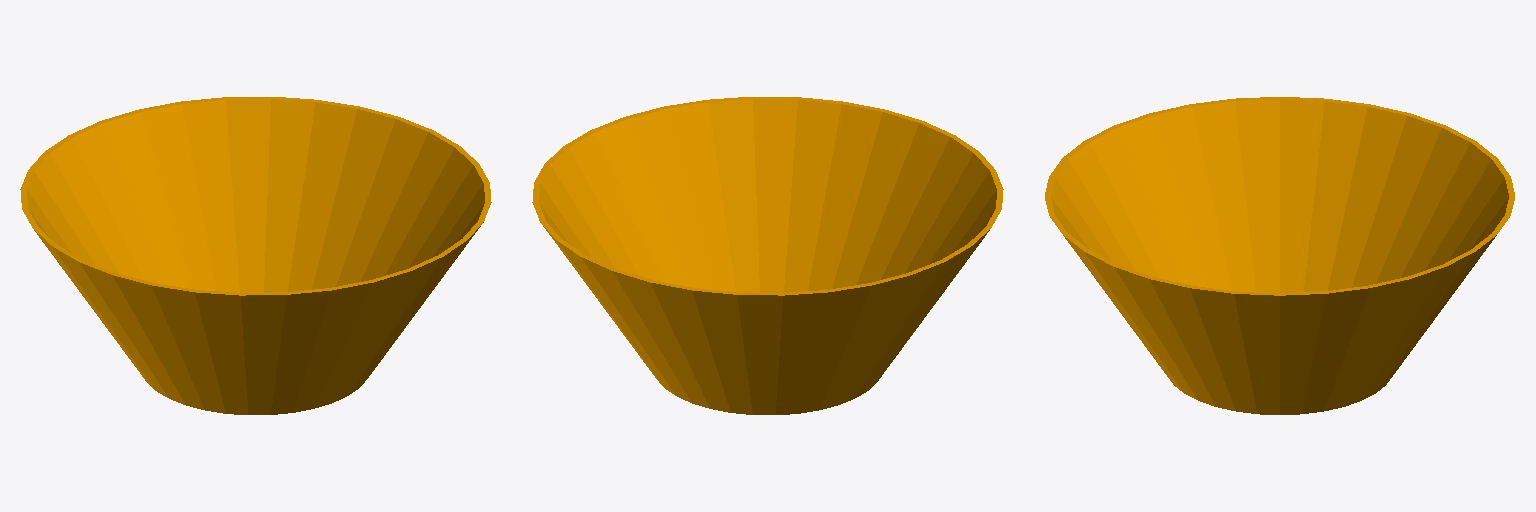
The robot description file, URDF, robot "bowl_large_model":
<robot name="bowl_large_model">
  <link name="bowl_large">
    <inertial>
      <mass value="0.150000" />
      <origin xyz="-0.000000 0.000000 0.029580"/>
      <inertia ixx="0.000305" ixy="0.000000" ixz="0.000000" iyy="0.000305" iyz="-0.000000" izz="0.000490" />
    </inertial>
    <visual>
      <geometry>
        <mesh filename="package://manipulation_objects/meshes/bowl_large.stl" />
      </geometry>
    </visual>
    <collision>
      <geometry>
        <mesh filename="package://manipulation_objects/meshes/bowl_large.stl" />
      </geometry>
    </collision>
  </link>
  <gazebo reference="bowl_large">
    <material>Gazebo/Grey</material>
  </gazebo>
</robot>

--- Facts derived from the render (not from the file) ---
3 views of the same robot in one strip: view 1: azimuth 30°, elevation 25°; view 2: azimuth 150°, elevation 25°; view 3: azimuth 270°, elevation 25° (orthographic).
Model bowl_large_model with 1 links and 0 joints (none), rooted at bowl_large, posed all joints at 0.
Visible links, largest first — view 1: bowl_large; view 2: bowl_large; view 3: bowl_large.
Link boxes in pixels (bbox=[...]): bowl_large: bbox=[20, 97, 491, 414]; bowl_large: bbox=[532, 97, 1003, 414]; bowl_large: bbox=[1045, 97, 1514, 414].
Bounding box of the posed robot: 0.1602 × 0.1602 × 0.064 m (x, y, z).
1 mesh visuals loaded from 1 distinct referenced files (1 binary STL).
